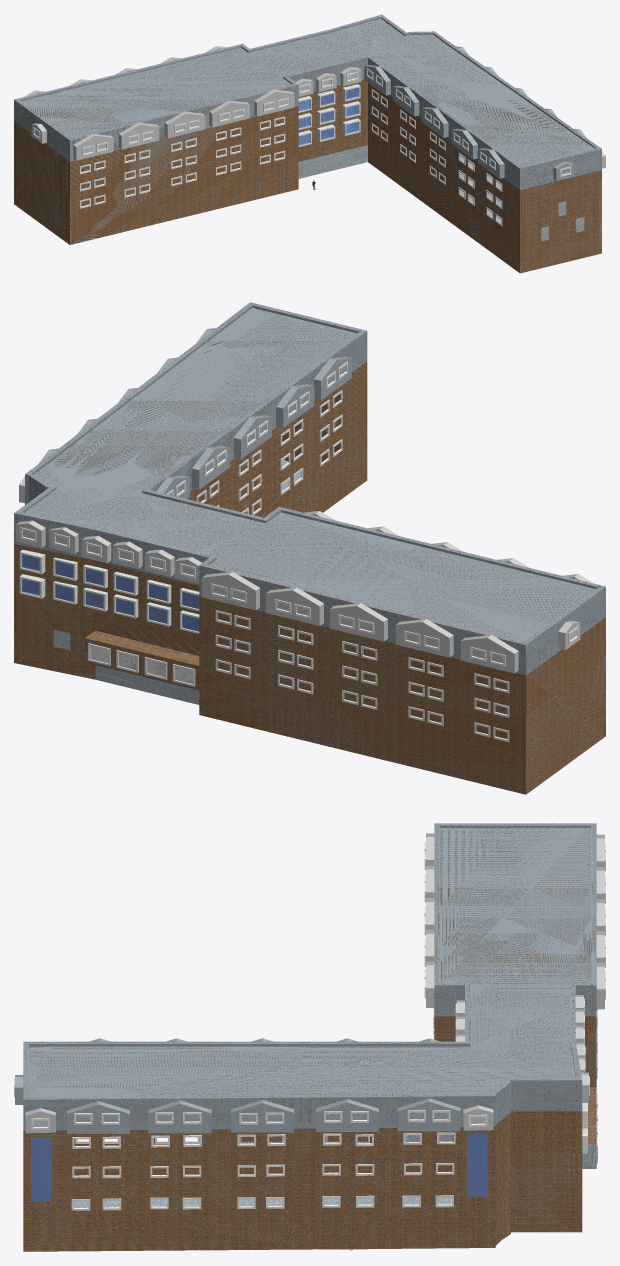
File: Earle Hall(Textures).fbx
The picture shows the model from 3 angles, top to bottom: view 1: azimuth 30°, elevation 25°; view 2: azimuth 150°, elevation 25°; view 3: azimuth 270°, elevation 25°; orthographic projection. The views are drawn at different scales.
Visible parts, largest first — view 1: Model, Component_3_1, Component_2_1, Component_1_1; view 2: Model, Component_3_1, Component_2_1, Component_1_1; view 3: Model, Component_3_1, Component_1_1.
Part boxes in pixels (x1,y1,x2,y2): Model: (14,14,601,273); Component_3_1: (24,46,294,160); Component_2_1: (298,84,360,146); Component_1_1: (31,18,605,168); Model: (14,302,605,794); Component_3_1: (202,511,593,673); Component_2_1: (19,550,199,686); Component_1_1: (16,476,580,650); Model: (15,823,596,1251); Component_3_1: (426,833,604,1009); Component_1_1: (25,995,588,1133).
Bounding box in the file's own units: 2943 × 743 × 2591.
